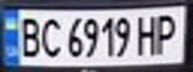1: (100, 14, 118, 57)
6: (63, 14, 84, 58)
9: (112, 12, 136, 57), (81, 14, 100, 58)
B: (15, 14, 42, 58)
C: (36, 15, 63, 58)
H: (133, 11, 163, 56)
P: (151, 10, 184, 55)
